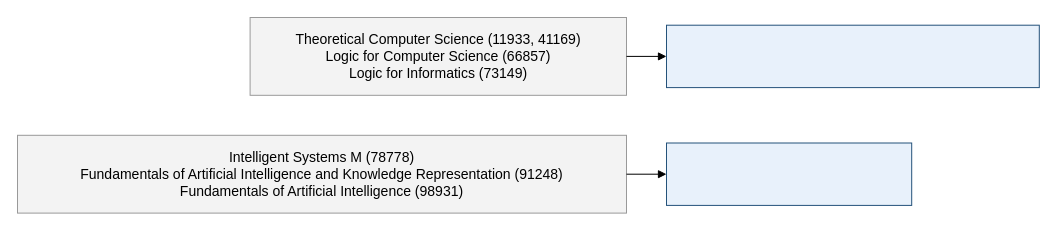
Some shapes in this 1057 by 231 pixel diagram are drawn without their labels. The centre of each missing label's shape, as x and y in pixels:
AI Reasoning and Planning 4 ECTS: [789,173]
Formal Logic and Computational Foundations 5 ECTS: [852,56]
